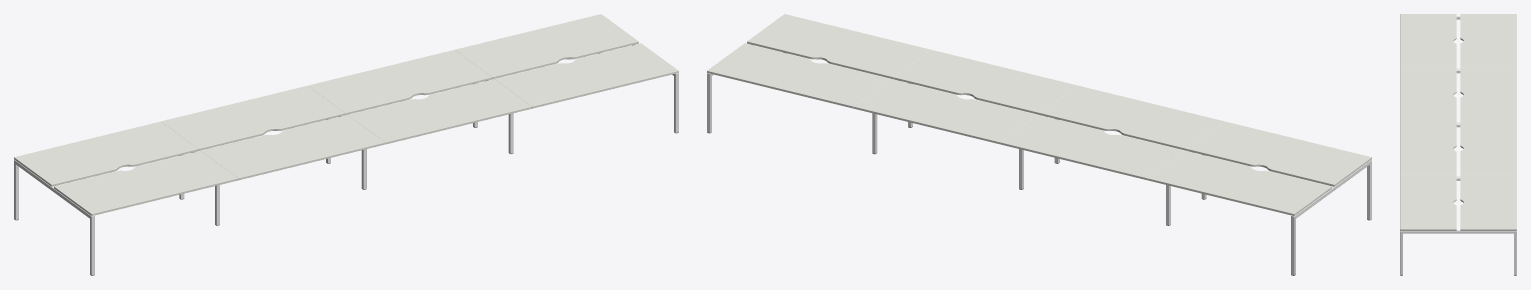
The model's file is Desk.glb.
3 views of the same model, side by side, from view 1: azimuth 30°, elevation 25°; view 2: azimuth 150°, elevation 25°; view 3: azimuth 270°, elevation 25° (orthographic). The views are drawn at different scales.
Visible parts, largest first — view 1: Fillet_Layer0, Fillet_Layer0_2, Fillet_Layer0_15, Fillet_Layer0_23, Fillet_Layer0_24, Fillet_Layer0_16, Fillet_Layer0_8, Fillet_Layer0_7, Extrude_Along_Path_Layer0; view 2: Fillet_Layer0_2, Fillet_Layer0, Fillet_Layer0_16, Fillet_Layer0_24, Fillet_Layer0_23, Fillet_Layer0_15, Fillet_Layer0_7, Fillet_Layer0_8, Extrude_Along_Path_Layer0; view 3: Fillet_Layer0_23, Fillet_Layer0_24, Fillet_Layer0_15, Fillet_Layer0_16, Fillet_Layer0, Fillet_Layer0_2, Fillet_Layer0_7, Fillet_Layer0_8, Extrude_Along_Path_Layer0_2.
Boxes of the visible parts, <box> form: Fillet_Layer0: <box>14,121,198,186</box>; Fillet_Layer0_2: <box>54,151,238,215</box>; Fillet_Layer0_15: <box>308,50,491,114</box>; Fillet_Layer0_23: <box>455,14,638,79</box>; Fillet_Layer0_24: <box>495,43,678,108</box>; Fillet_Layer0_16: <box>348,79,531,144</box>; Fillet_Layer0_8: <box>201,115,385,180</box>; Fillet_Layer0_7: <box>161,85,345,150</box>; Extrude_Along_Path_Layer0: <box>14,159,94,275</box>; Fillet_Layer0_2: <box>1187,121,1371,186</box>; Fillet_Layer0: <box>1147,151,1331,215</box>; Fillet_Layer0_16: <box>894,50,1077,114</box>; Fillet_Layer0_24: <box>747,14,930,79</box>; Fillet_Layer0_23: <box>707,43,890,108</box>; Fillet_Layer0_15: <box>854,79,1037,144</box>; Fillet_Layer0_7: <box>1000,115,1184,180</box>; Fillet_Layer0_8: <box>1040,85,1224,150</box>; Extrude_Along_Path_Layer0: <box>1291,159,1371,275</box>; Fillet_Layer0_23: <box>1460,175,1516,230</box>; Fillet_Layer0_24: <box>1400,175,1456,230</box>; Fillet_Layer0_15: <box>1460,121,1516,175</box>; Fillet_Layer0_16: <box>1400,121,1456,175</box>; Fillet_Layer0: <box>1460,14,1516,67</box>; Fillet_Layer0_2: <box>1400,14,1456,67</box>; Fillet_Layer0_7: <box>1460,68,1516,121</box>; Fillet_Layer0_8: <box>1400,68,1456,121</box>; Extrude_Along_Path_Layer0_2: <box>1400,230,1516,275</box>.
Size of the model in its own units: 7.2 by 0.73 by 1.65.
Materials: 4 (1 with a texture image).
